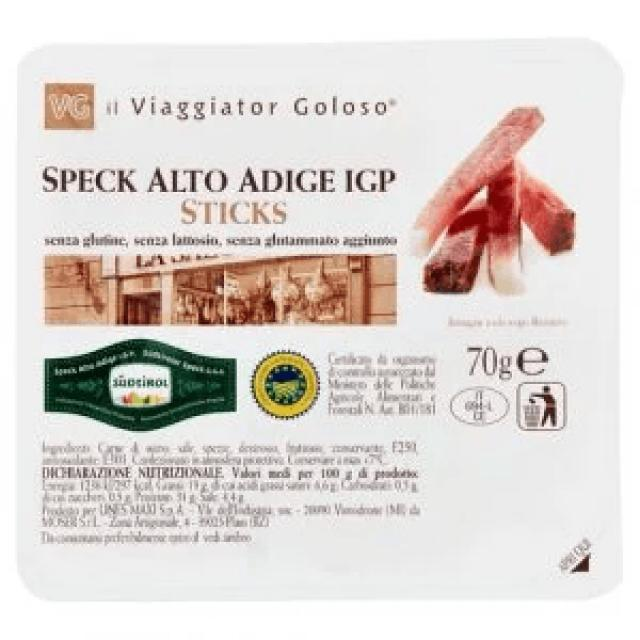Ham: (3, 34, 639, 601)
